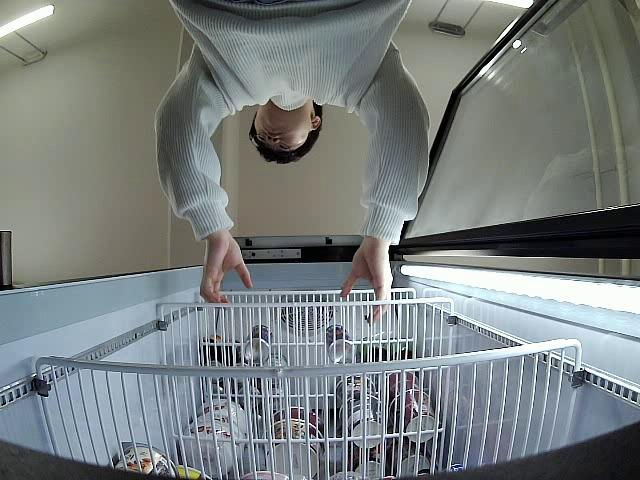00_hand: (341, 245, 395, 326), (199, 238, 254, 305)
